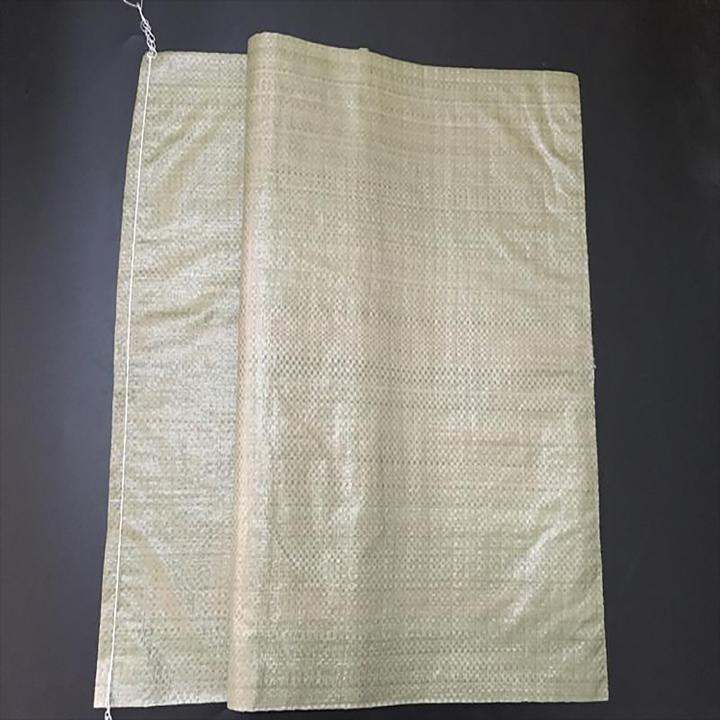塑料袋: (94, 34, 606, 710)
